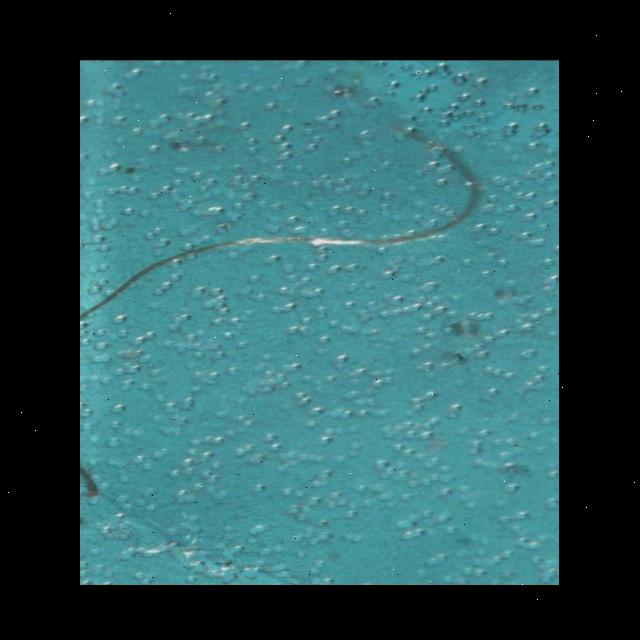Fibre: (80, 98, 493, 500)
